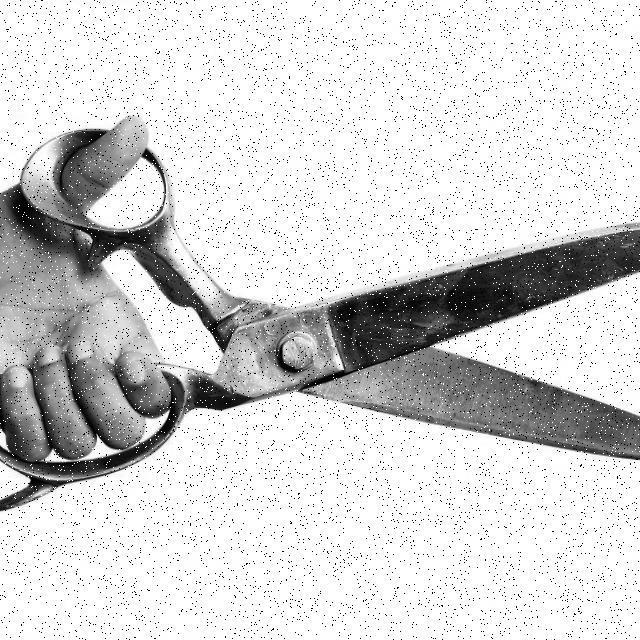scissors: (0, 117, 640, 515)
